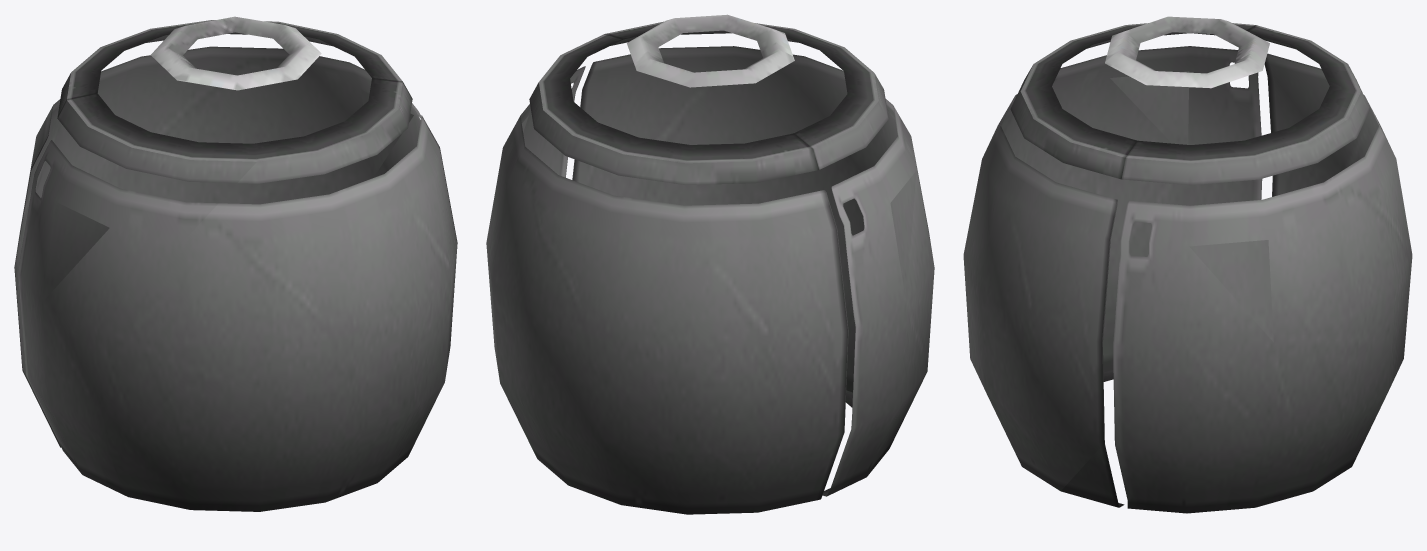
The model's file is Shiny_Barrel.FBX.
3 views of the same model, side by side, from view 1: azimuth 30°, elevation 25°; view 2: azimuth 150°, elevation 25°; view 3: azimuth 270°, elevation 25° (orthographic).
Visible parts, largest first — view 1: sm_shinny_barrel; view 2: sm_shinny_barrel; view 3: sm_shinny_barrel.
Part boxes in pixels (<box>): sm_shinny_barrel: <box>14,16,457,511</box>; sm_shinny_barrel: <box>486,14,934,514</box>; sm_shinny_barrel: <box>963,16,1412,513</box>.
Bounding box in the file's own units: 66.13 × 70.8 × 66.13.
Materials: 1 (1 with a texture image).
